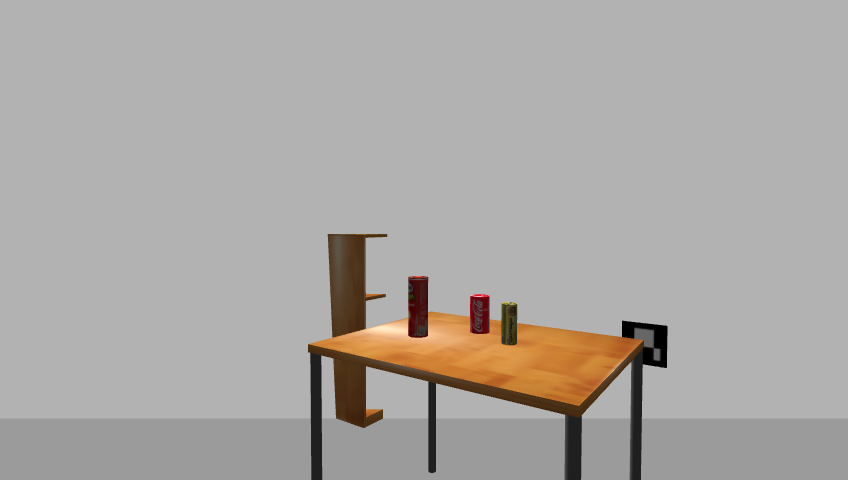aruco marker: (618, 319, 673, 370)
biscuits pack: (501, 301, 519, 346)
bookshelf: (324, 231, 392, 431)
coke can: (468, 294, 491, 336)
dinner table: (301, 311, 651, 480)
pringles can: (405, 275, 430, 340)
